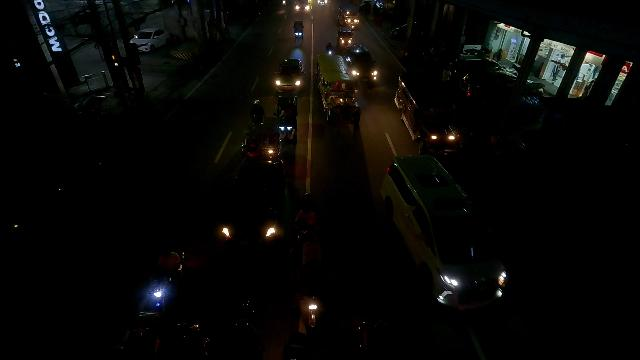car: (396, 156, 506, 305), (345, 44, 378, 86), (275, 58, 303, 91)
jeepney: (394, 72, 462, 154), (317, 53, 361, 129), (337, 3, 360, 28)
motorcycle: (326, 40, 333, 54)
